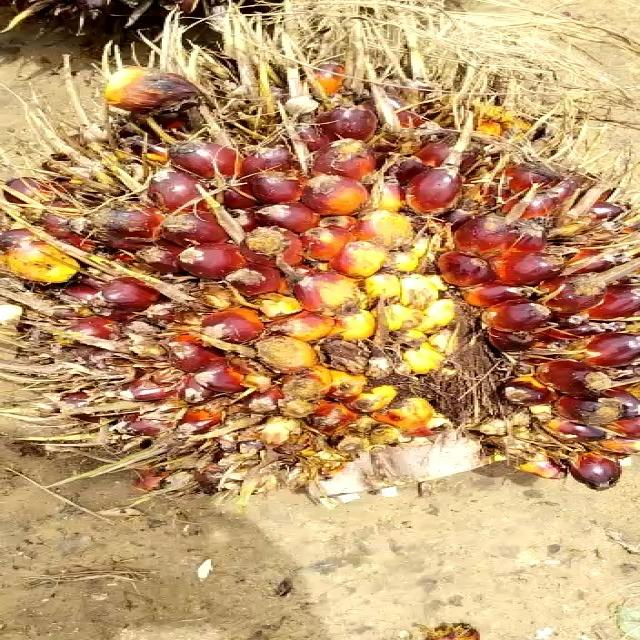palm oil: (0, 52, 640, 530)
